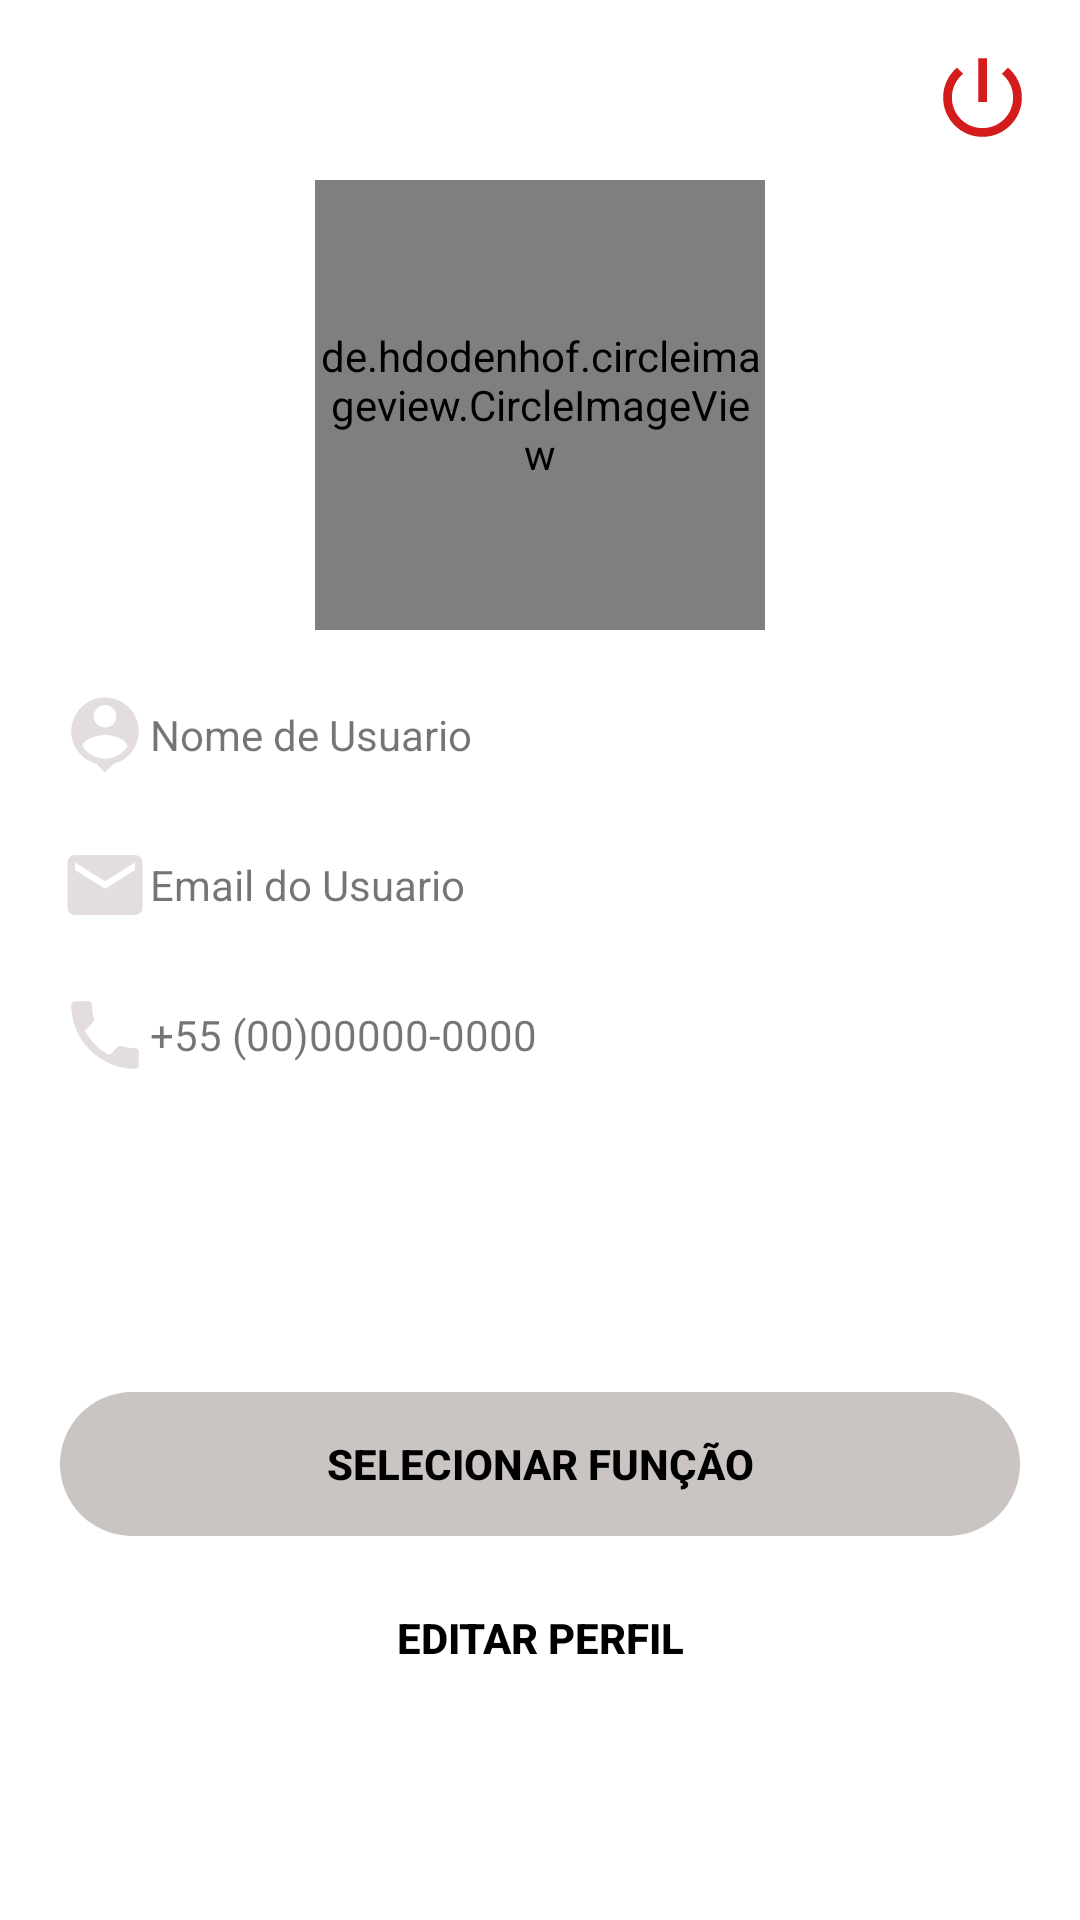

Point at icon controls on the screen. Image size 1080*1920, points as (x=x, y=y).
person pin: (x=105, y=735)
phone: (x=105, y=1035)
power: (x=982, y=97)
